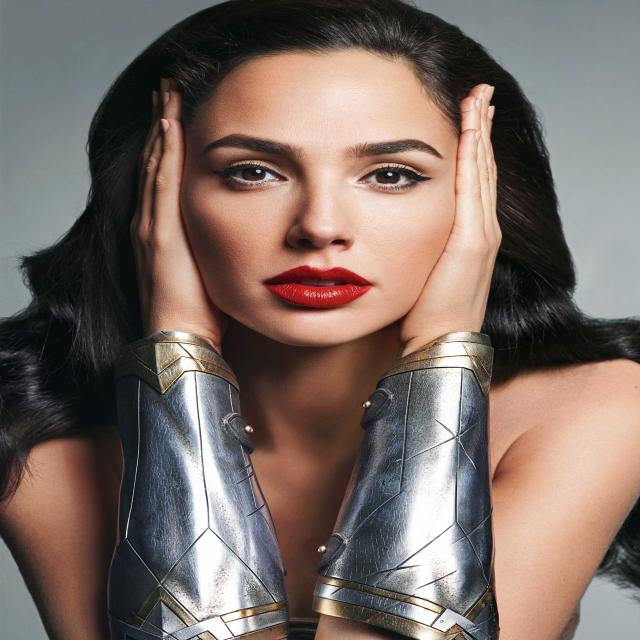human: (25, 18, 612, 640)
